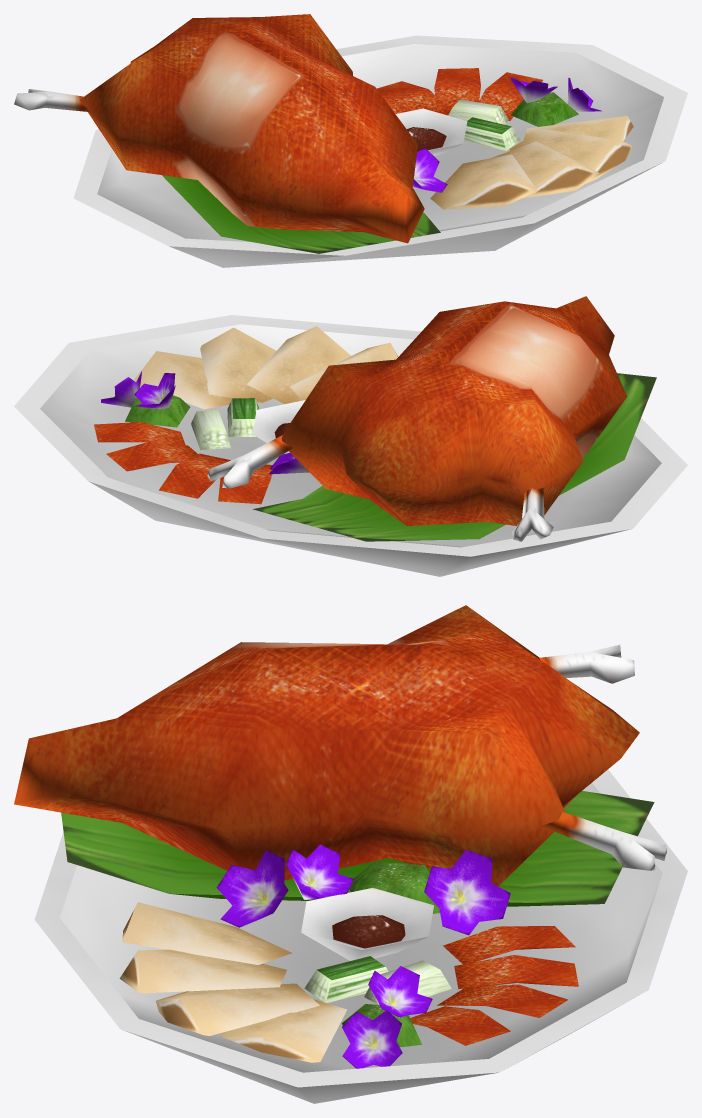
The model's file is pekin.fbx.
3 renders of one model, top to bottom at view 1: azimuth 30°, elevation 25°; view 2: azimuth 150°, elevation 25°; view 3: azimuth 270°, elevation 25°, orthographic. The views are drawn at different scales.
Parts seen in each view (by area): view 1: pekin; view 2: pekin; view 3: pekin.
Part boxes in pixels (x1,y1,x2,y2): pekin: [14, 14, 687, 267]; pekin: [14, 296, 687, 576]; pekin: [14, 605, 687, 1103].
Size of the model in its own units: 16.22 by 4.71 by 12.03.
1 material, 1 textured.
